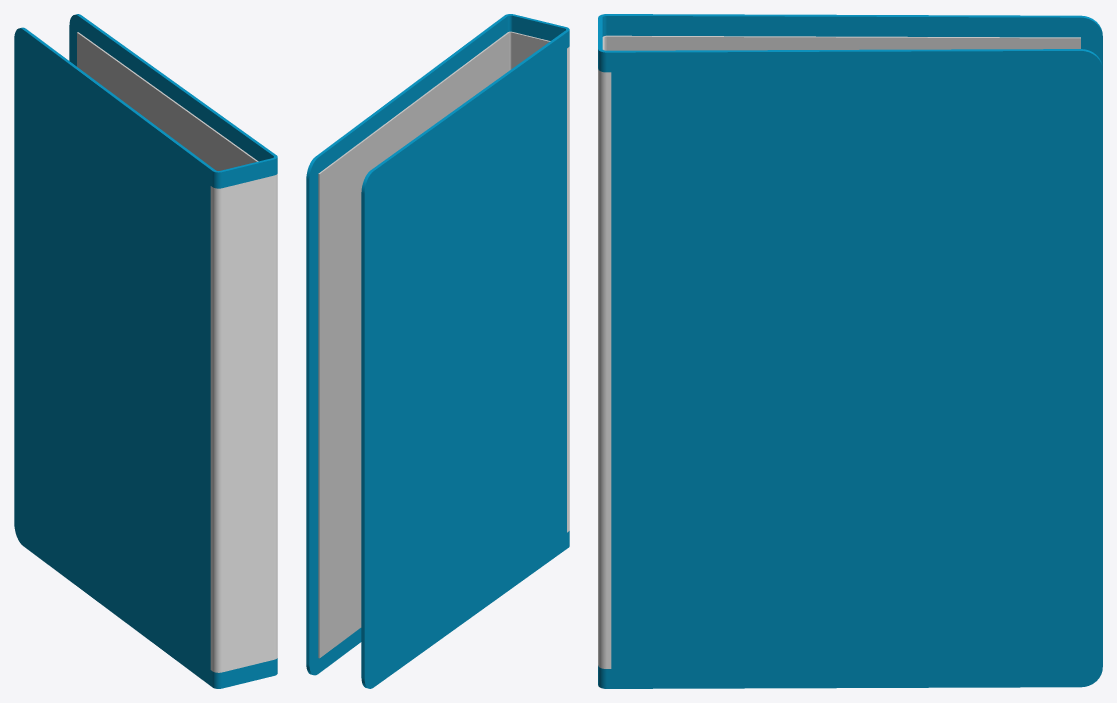
Rendered from 445_パイプ式ファイル細.glb.
3 views of the same model, side by side, from view 1: azimuth 30°, elevation 25°; view 2: azimuth 150°, elevation 25°; view 3: azimuth 270°, elevation 25° (orthographic). The views are drawn at different scales.
Parts seen in each view (by area): view 1: 445_pipe_file_S; view 2: 445_pipe_file_S; view 3: 445_pipe_file_S.
Boxes of the visible parts, left/top/right/bottom form: 445_pipe_file_S: left=14, top=14, right=277, bottom=688; 445_pipe_file_S: left=306, top=14, right=569, bottom=688; 445_pipe_file_S: left=598, top=14, right=1102, bottom=688.
Bounding box in the file's own units: 0.0416 × 0.32 × 0.23.
